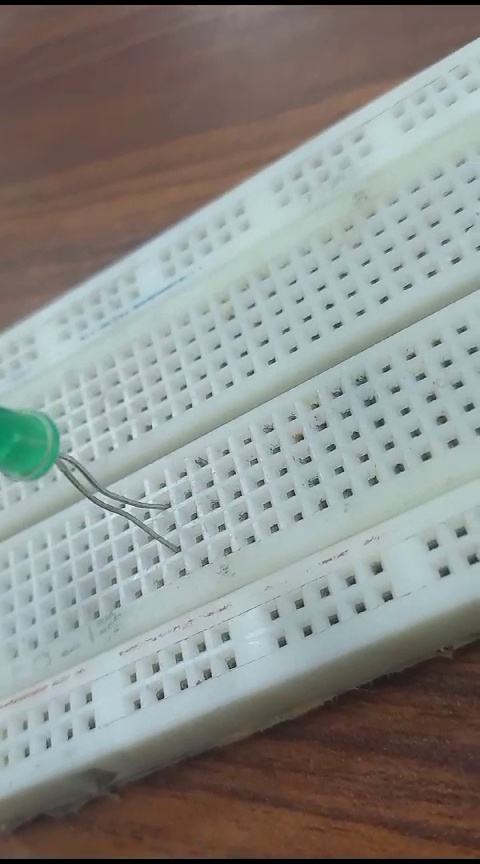LED: (1, 403, 187, 553)
